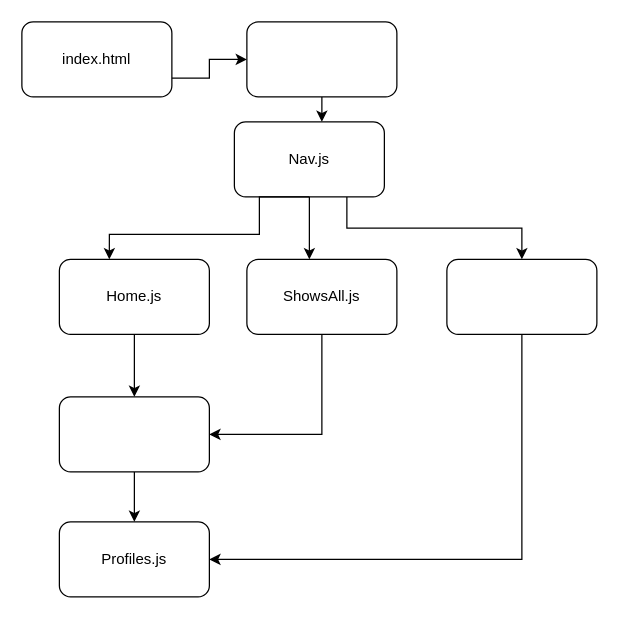
Image size: 619x619. Some labels were removed from this diagram. Here are the shapes that lost their labels. From the top down, the box of each, then its label:
(246, 21, 397, 97): App.js
(446, 258, 597, 334): CastCrewAll.js
(58, 396, 209, 472): PeopleByShow.js
